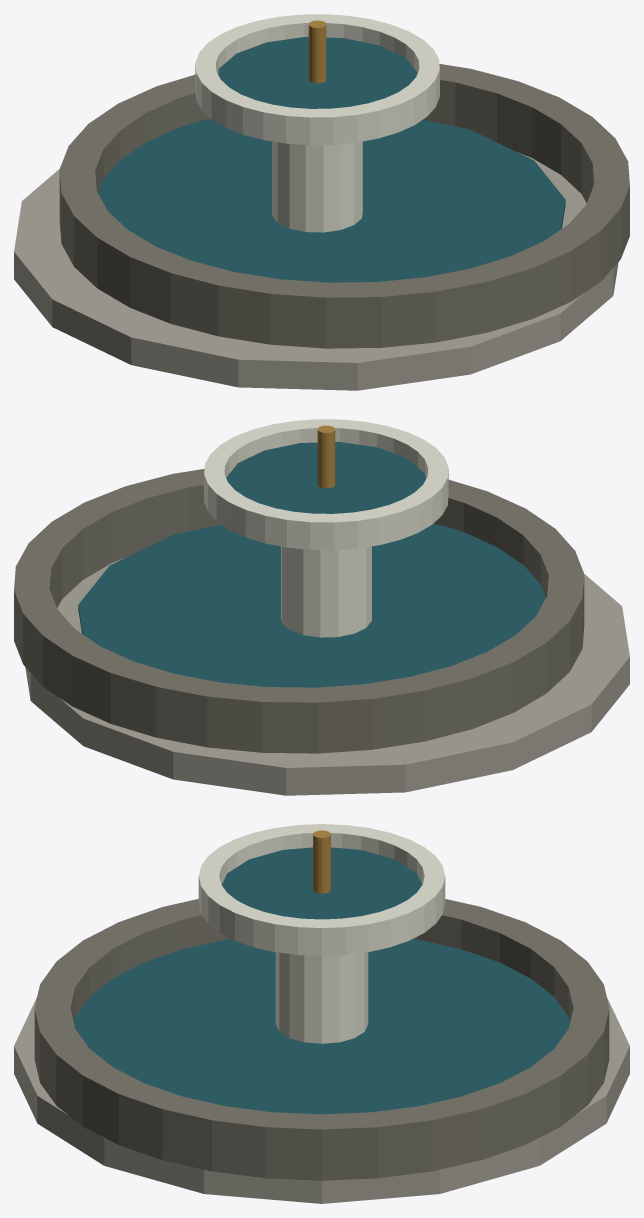
File: source-edit.glb
3 renders of one model, top to bottom at view 1: azimuth 30°, elevation 25°; view 2: azimuth 150°, elevation 25°; view 3: azimuth 270°, elevation 25°, orthographic.
Parts seen in each view (by area): view 1: Basin_Rim, Water_Surface, Foundation, Upper_Bowl, Upper_Water, Central_Pedestal, Nozzle; view 2: Basin_Rim, Water_Surface, Foundation, Upper_Bowl, Upper_Water, Central_Pedestal, Nozzle; view 3: Basin_Rim, Water_Surface, Foundation, Upper_Bowl, Upper_Water, Central_Pedestal, Nozzle.
Part boxes in pixels (<box>): Basin_Rim: <box>59,64,629,348</box>; Water_Surface: <box>98,119,565,282</box>; Foundation: <box>14,153,618,390</box>; Upper_Bowl: <box>195,14,439,145</box>; Upper_Water: <box>218,37,417,108</box>; Central_Pedestal: <box>272,141,362,232</box>; Nozzle: <box>308,20,326,83</box>; Basin_Rim: <box>14,469,584,753</box>; Water_Surface: <box>78,524,545,687</box>; Foundation: <box>25,558,629,795</box>; Upper_Bowl: <box>204,419,448,550</box>; Upper_Water: <box>226,442,425,513</box>; Central_Pedestal: <box>281,546,371,637</box>; Nozzle: <box>317,425,335,488</box>; Basin_Rim: <box>34,899,609,1180</box>; Water_Surface: <box>74,939,569,1114</box>; Foundation: <box>14,997,629,1203</box>; Upper_Bowl: <box>198,824,445,955</box>; Upper_Water: <box>222,847,421,919</box>; Central_Pedestal: <box>275,952,368,1043</box>; Nozzle: <box>313,830,330,893</box>.
Bounding box in the file's own units: 2.44 × 1.03 × 2.4.
